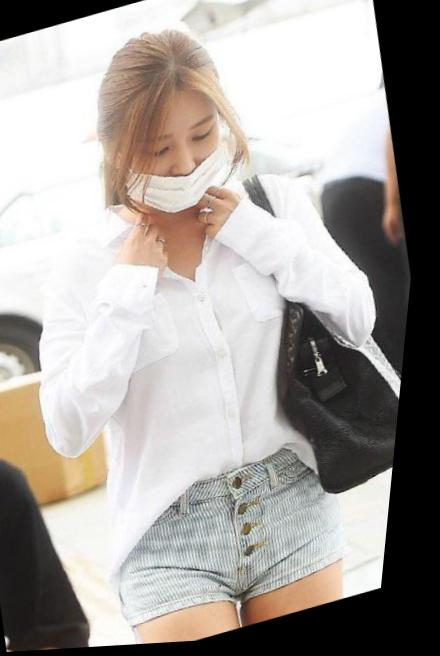WRONG: (113, 111, 237, 231)
